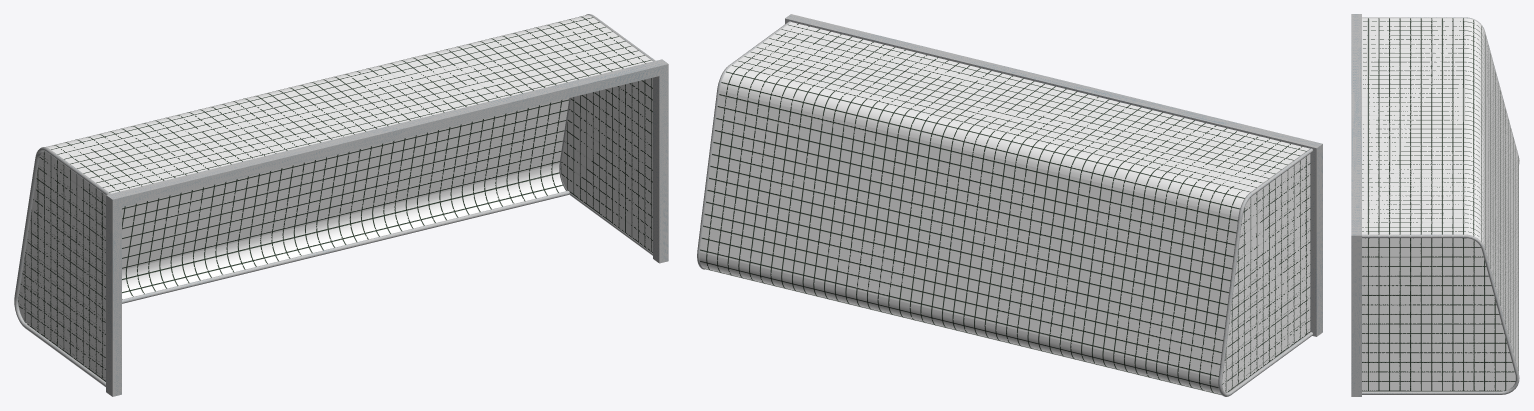
File: goal.dae
3 renders of one model, left to right at view 1: azimuth 30°, elevation 25°; view 2: azimuth 150°, elevation 25°; view 3: azimuth 270°, elevation 25°, orthographic. The views are drawn at different scales.
Parts seen in each view (by area): view 1: Net, Goal_Coast; view 2: Net, Goal_Coast; view 3: Net, Goal_Coast.
Boxes of the visible parts, box(x1,y1,x2,y2) form: Net: box(18, 15, 652, 381); Goal_Coast: box(14, 14, 668, 396); Net: box(699, 22, 1310, 395); Goal_Coast: box(697, 14, 1322, 396); Net: box(1362, 18, 1518, 391); Goal_Coast: box(1351, 14, 1519, 396).
Bounding box in the file's own units: 298 × 95.45 × 101.
Materials: 3 (1 with a texture image).
